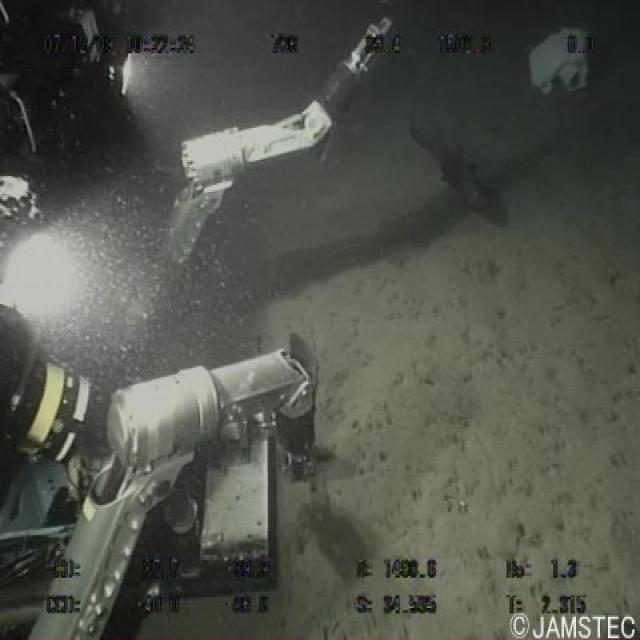plastic: (524, 18, 595, 105)
